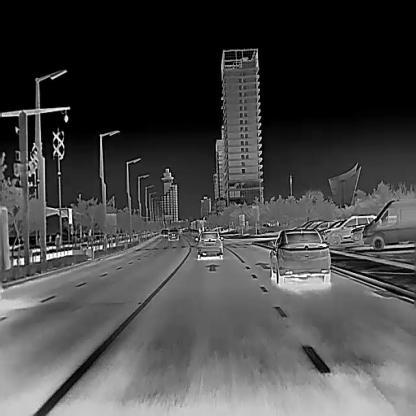car: (267, 228, 330, 283), (363, 198, 415, 249), (322, 212, 381, 245), (195, 230, 224, 259), (166, 228, 178, 241)
